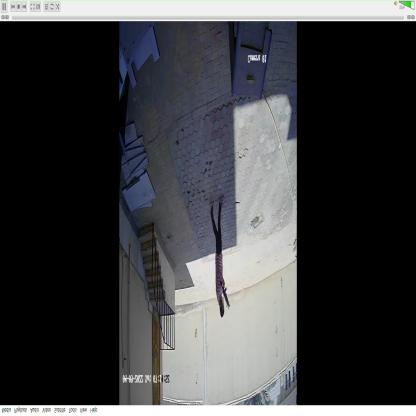handgun: (219, 278, 233, 310)
